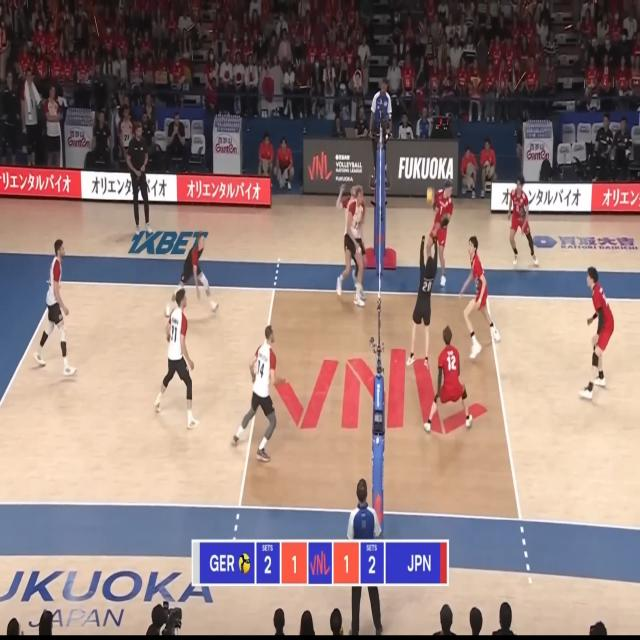ball: (427, 188, 435, 206)
